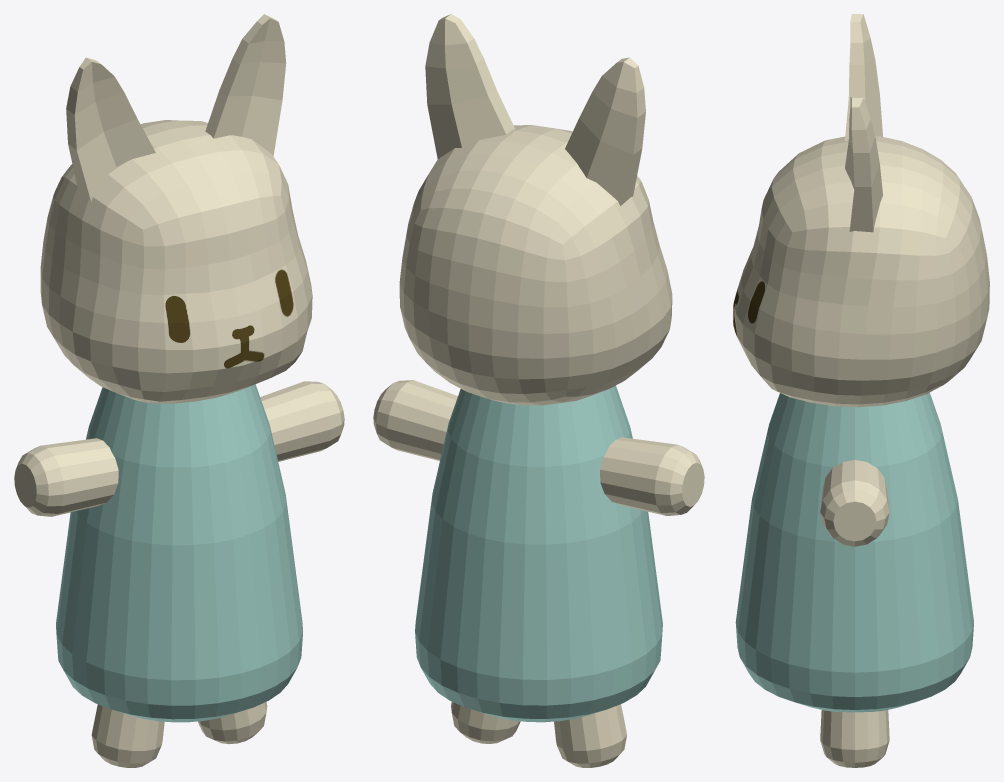
The model's file is kit.glb.
3 renders of one model, left to right at view 1: azimuth 30°, elevation 25°; view 2: azimuth 150°, elevation 25°; view 3: azimuth 270°, elevation 25°, orthographic. The views are drawn at different scales.
Parts seen in each view (by area): view 1: Body, Head, Ears, arms, legs; view 2: Body, Head, Ears, arms, legs; view 3: Body, Head, Ears, arms, legs.
Part boxes in pixels (x1,y1,x2,y2): Body: [56, 384, 302, 722]; Head: [40, 120, 312, 403]; Ears: [66, 14, 286, 201]; arms: [14, 381, 344, 516]; legs: [91, 702, 267, 767]; Body: [415, 385, 662, 722]; Head: [399, 125, 672, 405]; Ears: [425, 14, 645, 205]; arms: [373, 380, 704, 515]; legs: [451, 702, 626, 767]; Body: [735, 392, 973, 712]; Head: [733, 136, 989, 407]; Ears: [845, 14, 882, 232]; arms: [820, 460, 889, 546]; legs: [820, 710, 889, 767].
Bounding box in the file's own units: 4.69 × 10.28 × 3.5.
5 materials, 1 textured.
